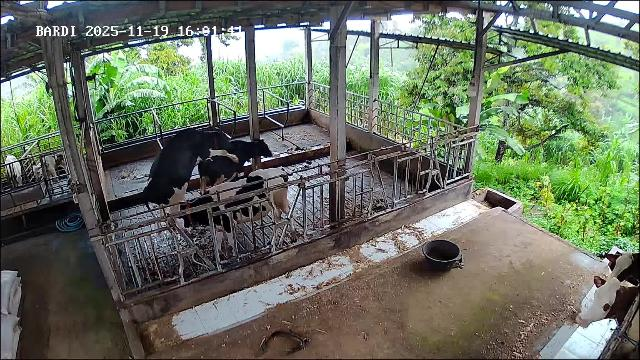mounting: (142, 128, 238, 254)
